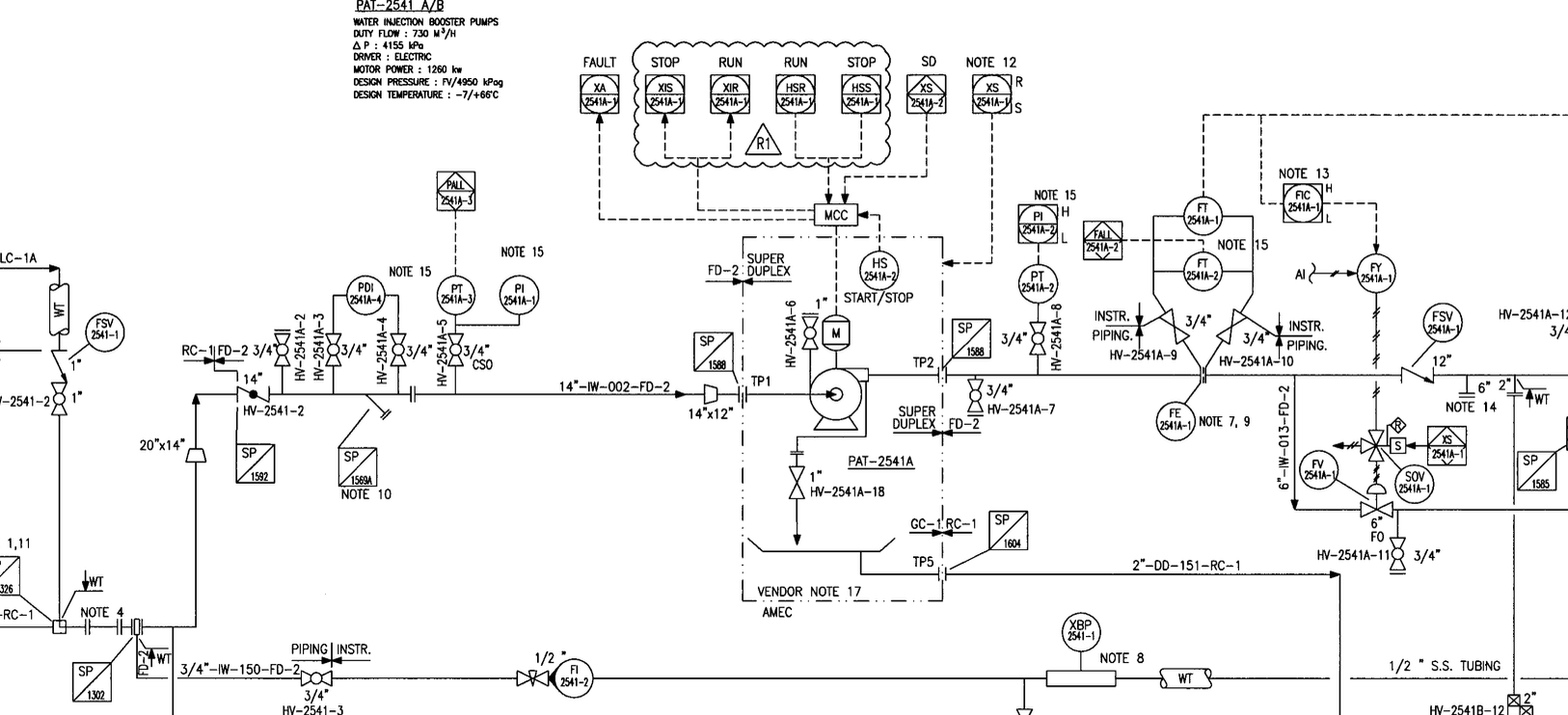Instrument: (853, 247, 908, 297), (496, 268, 546, 321), (341, 269, 392, 320), (1387, 460, 1441, 506), (1416, 297, 1466, 346), (552, 652, 603, 700), (1011, 259, 1062, 306), (1351, 251, 1400, 299), (82, 307, 131, 355), (1149, 399, 1199, 446), (431, 268, 479, 316), (1180, 193, 1226, 240), (1060, 604, 1104, 653), (1180, 249, 1226, 295), (1296, 447, 1342, 492)
Instrument-square: (770, 64, 824, 118), (703, 67, 758, 119), (430, 162, 481, 218), (899, 68, 952, 119), (574, 71, 627, 120), (640, 70, 691, 118), (1076, 216, 1127, 263), (1277, 180, 1327, 227), (837, 67, 883, 118), (969, 67, 1014, 119), (1009, 204, 1062, 246)
